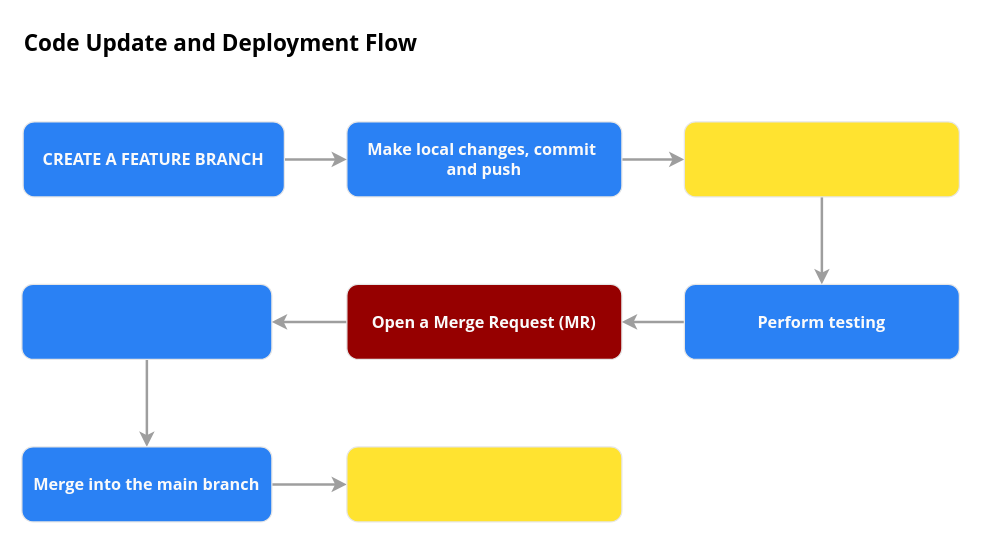
Some shapes in this 981 by 544 pixel diagram are drawn without their labels. The shapes that lost their labels are listed below. From the top down, each one's centre as x and y in pixels, then its label:
[821,159]: GitLab CI/CD Pipeline deploys to the QA env
[146,321]: Another developer will review and approve the MR
[484,484]: GitLab CI/CD Pipeline build and deploy to the Prod env
